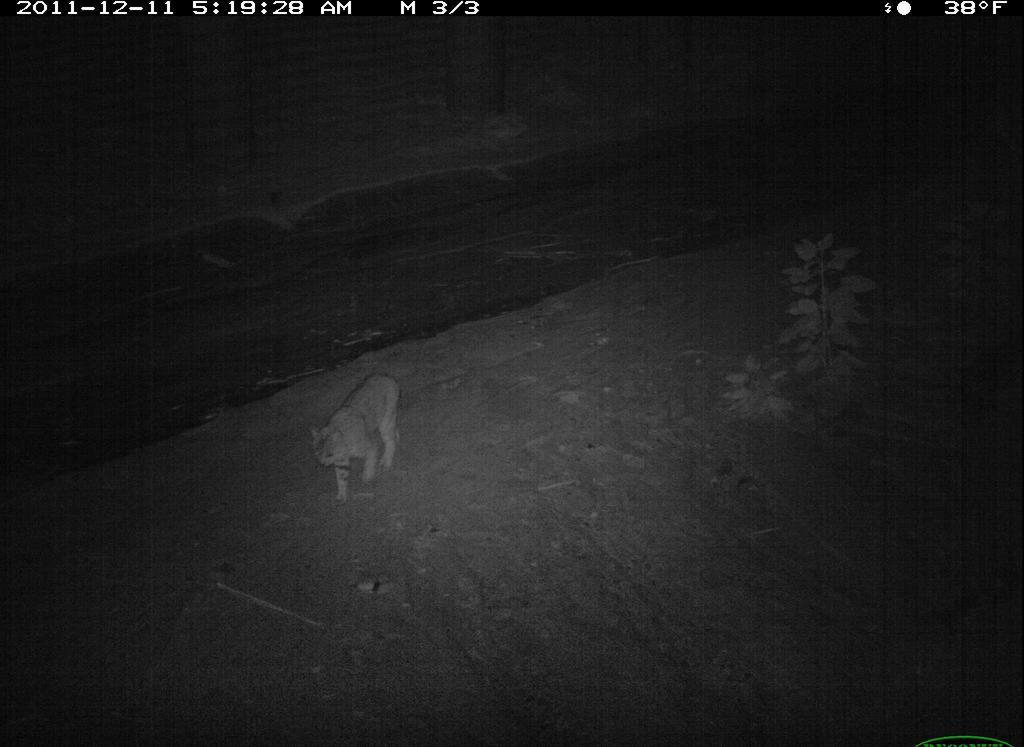bobcat: (304, 367, 425, 509)
